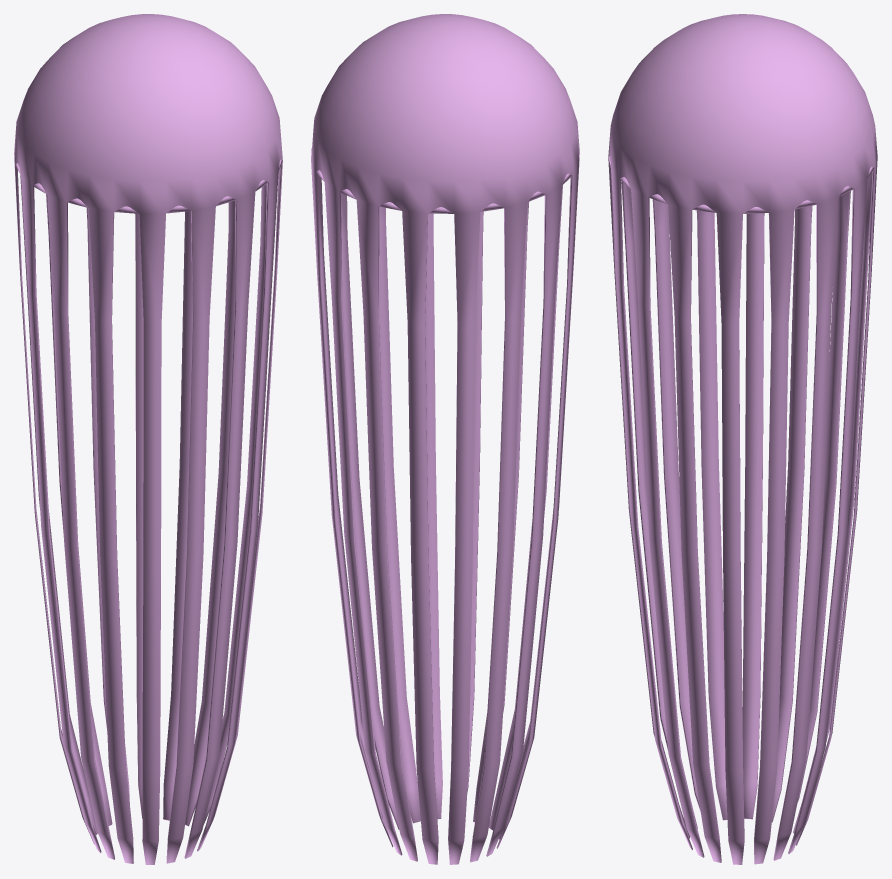
Rendered from jellyfish.glb.
3 renders of one model, left to right at view 1: azimuth 30°, elevation 25°; view 2: azimuth 150°, elevation 25°; view 3: azimuth 270°, elevation 25°, orthographic.
Parts seen in each view (by area): view 1: Sphere.005; view 2: Sphere.005; view 3: Sphere.005.
Boxes of the visible parts, left/top/right/bottom form: Sphere.005: left=14, top=14, right=282, bottom=864; Sphere.005: left=311, top=14, right=579, bottom=864; Sphere.005: left=608, top=14, right=877, bottom=864.
Bounding box in the file's own units: 1.97 × 6.59 × 1.97.
